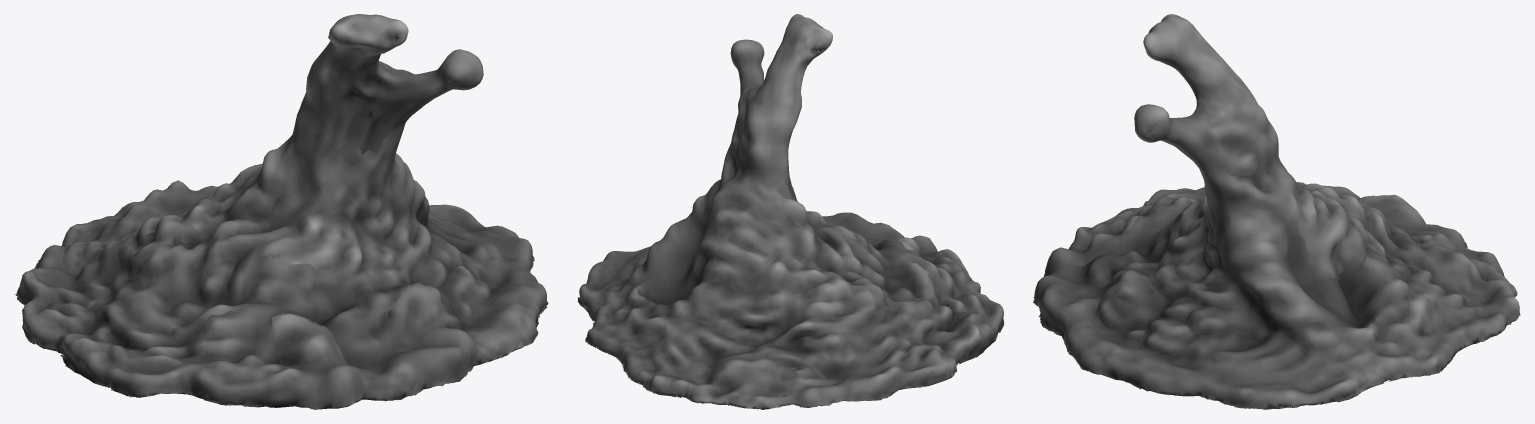
File: MZ4250 - Grey Ooze 2025.glb
3 views of the same model, side by side, from view 1: azimuth 30°, elevation 25°; view 2: azimuth 150°, elevation 25°; view 3: azimuth 270°, elevation 25° (orthographic). The views are drawn at different scales.
Visible parts, largest first — view 1: Medium Creature Size Marker.001; view 2: Medium Creature Size Marker.001; view 3: Medium Creature Size Marker.001.
Part boxes in pixels (<box>): Medium Creature Size Marker.001: <box>15,14,548,409</box>; Medium Creature Size Marker.001: <box>577,14,1004,409</box>; Medium Creature Size Marker.001: <box>1033,14,1520,409</box>.
Size of the model in its own units: 59.01 by 38.81 by 58.15.
Materials: 1 (1 with a texture image).
